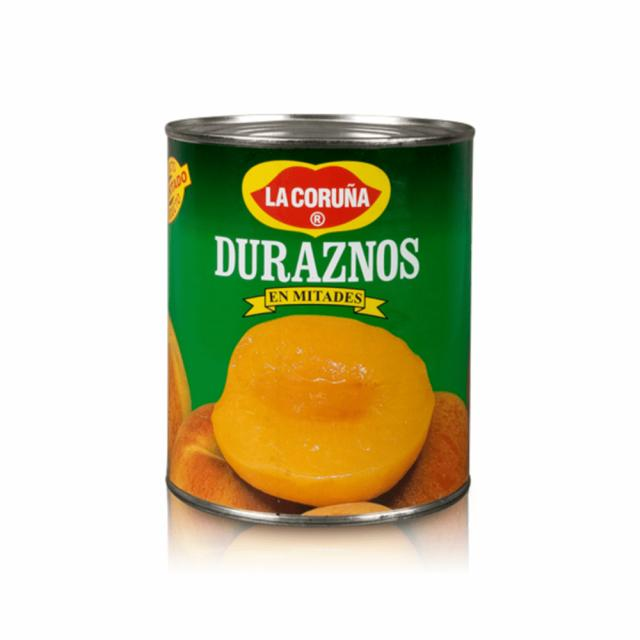Lata: (160, 110, 480, 525)
